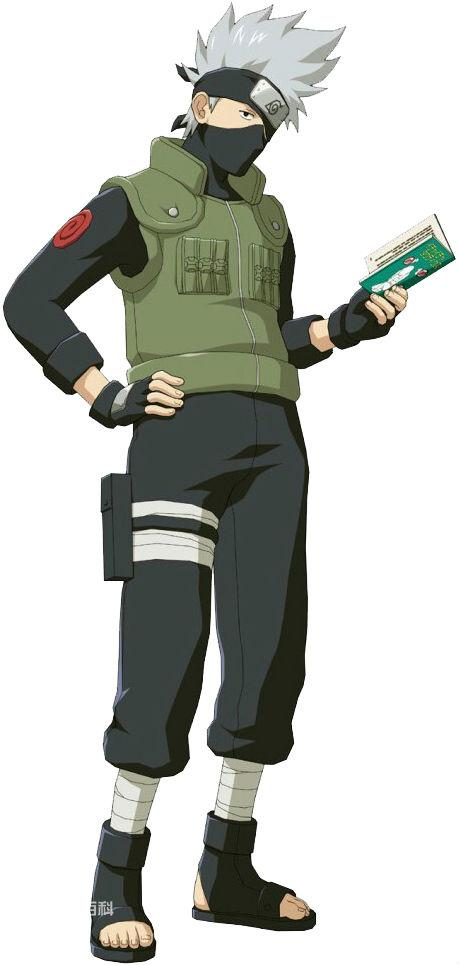kakashi: (187, 61, 294, 182)
